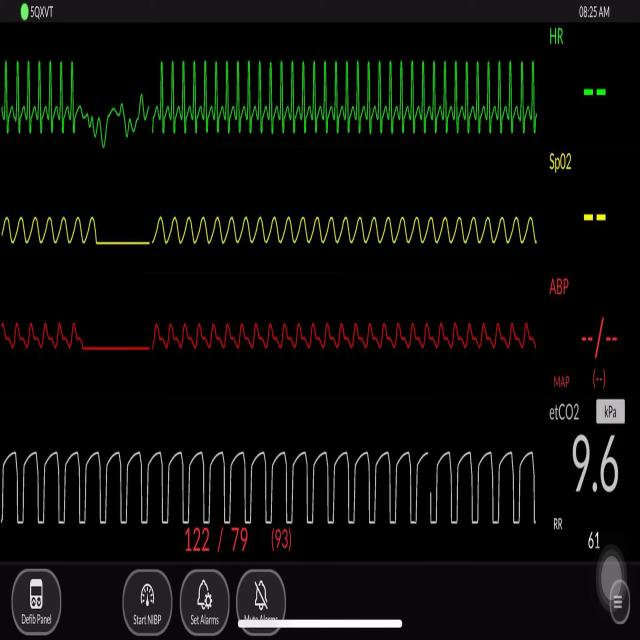danger: (155, 41, 543, 148), (0, 47, 84, 148)
